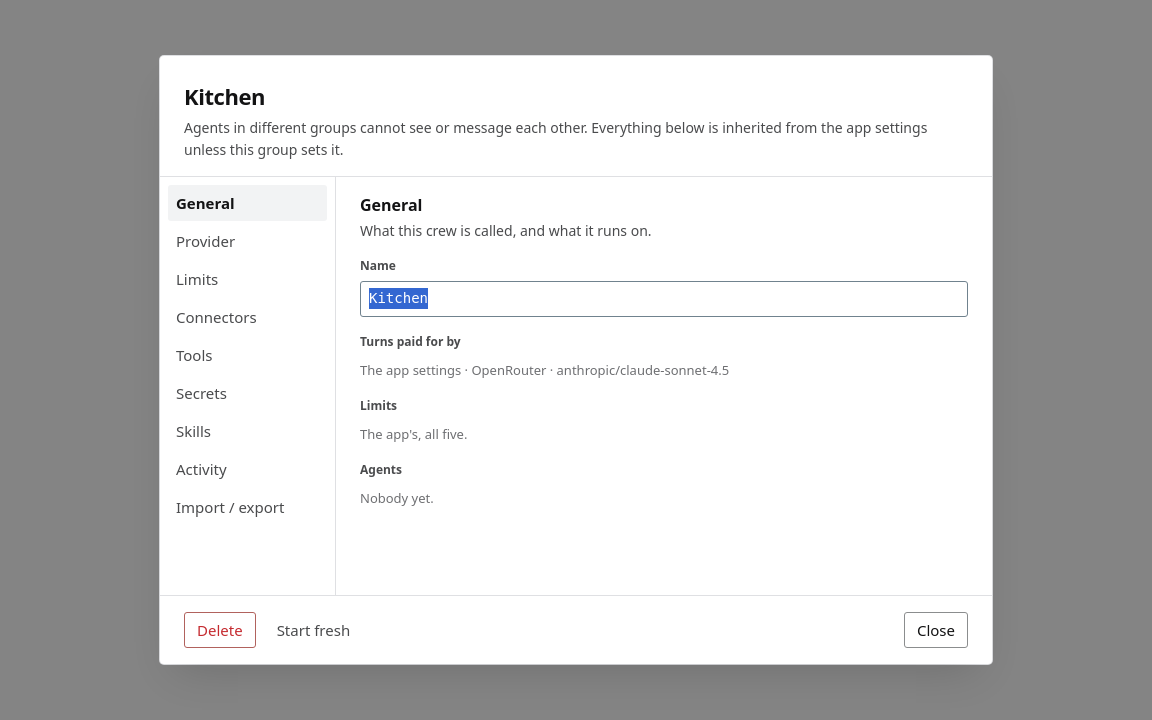
Test: who pays for a group's turns › says where the sign-in is managed whether or not there is one
The image size is (1152, 720).
Click the tab "Provider". click: (248,241)
box: [168,223,327,259]
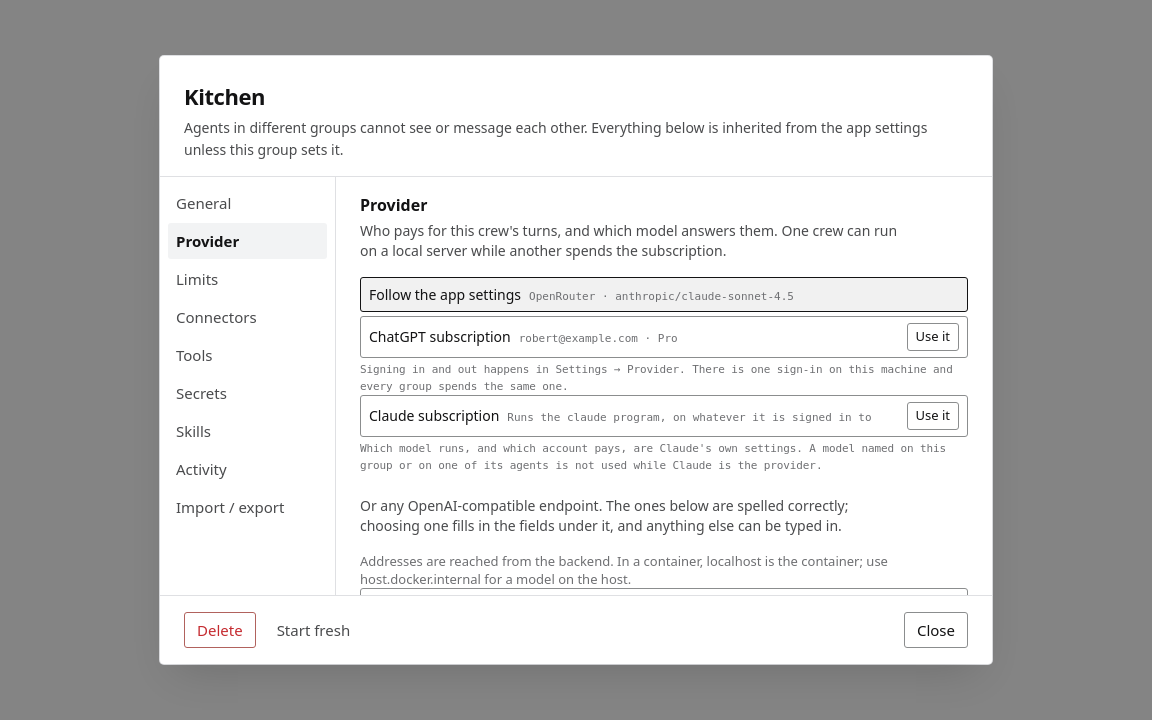
Now the text "robert@example.com · Pro" is shown, box [519,331,678,348]
Now the text "Settings . Provider" is shown, box [360,363,953,393]
